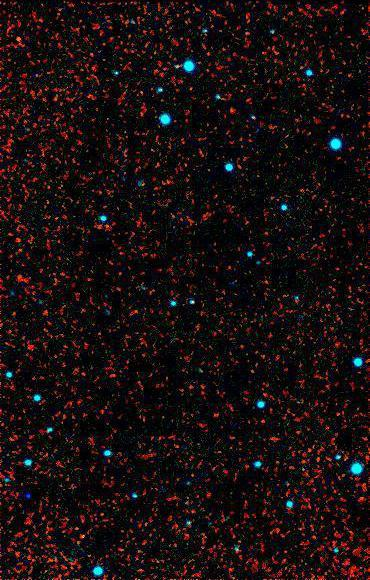star: (9, 479, 39, 509)
